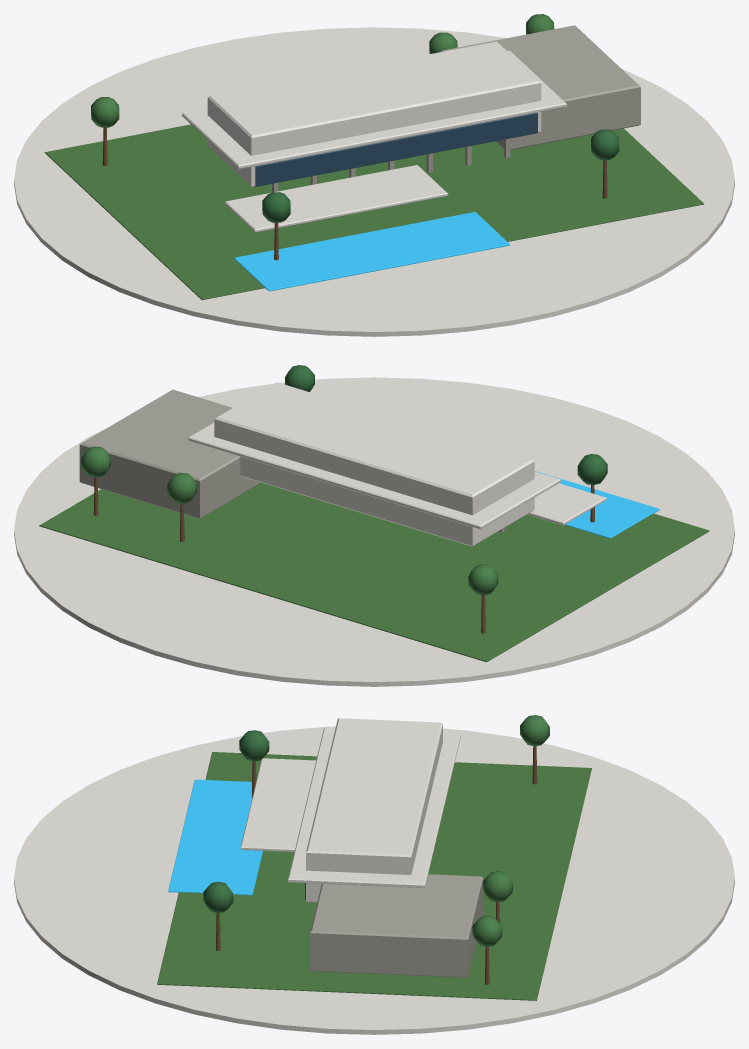
Rendered from palacio-da-abolicao.glb.
3 views of the same model, one above another, from view 1: azimuth 30°, elevation 25°; view 2: azimuth 150°, elevation 25°; view 3: azimuth 270°, elevation 25° (orthographic).
Parts seen in each view (by area): view 1: Base_Pedestal, Jardim_Base, Palacio_Lamina_Principal, Ala_Gabinete, Espelho_Dagua, Marquise_Cerimonial, Palacio_Faixa_Vidro, Palacio_Cobertura, Palmeira_Copa_1, Palmeira_Copa_3, Palmeira_Copa_0; view 2: Base_Pedestal, Jardim_Base, Palacio_Lamina_Principal, Ala_Gabinete, Palacio_Cobertura, Espelho_Dagua, Marquise_Cerimonial, Palmeira_Copa_0, Palmeira_Copa_1, Palmeira_Copa_2, Palmeira_Copa_4, Palmeira_Copa_3; view 3: Base_Pedestal, Jardim_Base, Palacio_Lamina_Principal, Ala_Gabinete, Espelho_Dagua, Palacio_Cobertura, Marquise_Cerimonial, Palmeira_Copa_1, Palmeira_Copa_4, Palmeira_Copa_3, Palmeira_Copa_0, Palmeira_Copa_2.
Boxes of the visible parts, bbox=[...] form: Base_Pedestal: bbox=[14, 27, 734, 336]; Jardim_Base: bbox=[44, 124, 703, 299]; Palacio_Lamina_Principal: bbox=[207, 41, 541, 187]; Ala_Gabinete: bbox=[440, 25, 640, 149]; Espelho_Dagua: bbox=[234, 212, 510, 291]; Marquise_Cerimonial: bbox=[224, 165, 448, 232]; Palacio_Faixa_Vidro: bbox=[255, 113, 537, 186]; Palacio_Cobertura: bbox=[182, 50, 566, 168]; Palmeira_Copa_1: bbox=[262, 192, 290, 222]; Palmeira_Copa_3: bbox=[591, 129, 619, 160]; Palmeira_Copa_0: bbox=[91, 97, 119, 127]; Base_Pedestal: bbox=[14, 377, 734, 686]; Jardim_Base: bbox=[39, 482, 709, 662]; Palacio_Lamina_Principal: bbox=[214, 382, 534, 546]; Ala_Gabinete: bbox=[79, 389, 260, 518]; Palacio_Cobertura: bbox=[188, 423, 560, 529]; Espelho_Dagua: bbox=[535, 471, 659, 538]; Marquise_Cerimonial: bbox=[527, 483, 606, 525]; Palmeira_Copa_0: bbox=[468, 564, 498, 595]; Palmeira_Copa_1: bbox=[577, 454, 607, 484]; Palmeira_Copa_2: bbox=[167, 472, 196, 503]; Palmeira_Copa_4: bbox=[81, 446, 110, 477]; Palmeira_Copa_3: bbox=[285, 365, 314, 391]; Base_Pedestal: bbox=[14, 726, 734, 1034]; Jardim_Base: bbox=[157, 752, 591, 1000]; Palacio_Lamina_Principal: bbox=[306, 718, 442, 902]; Ala_Gabinete: bbox=[310, 874, 482, 977]; Espelho_Dagua: bbox=[168, 779, 262, 895]; Palacio_Cobertura: bbox=[288, 727, 460, 888]; Marquise_Cerimonial: bbox=[240, 758, 316, 852]; Palmeira_Copa_1: bbox=[239, 730, 269, 761]; Palmeira_Copa_4: bbox=[472, 915, 502, 946]; Palmeira_Copa_3: bbox=[203, 882, 233, 912]; Palmeira_Copa_0: bbox=[520, 715, 549, 746]; Palmeira_Copa_2: bbox=[483, 871, 512, 902].
Size of the model in its own units: 68 by 10 by 68.
